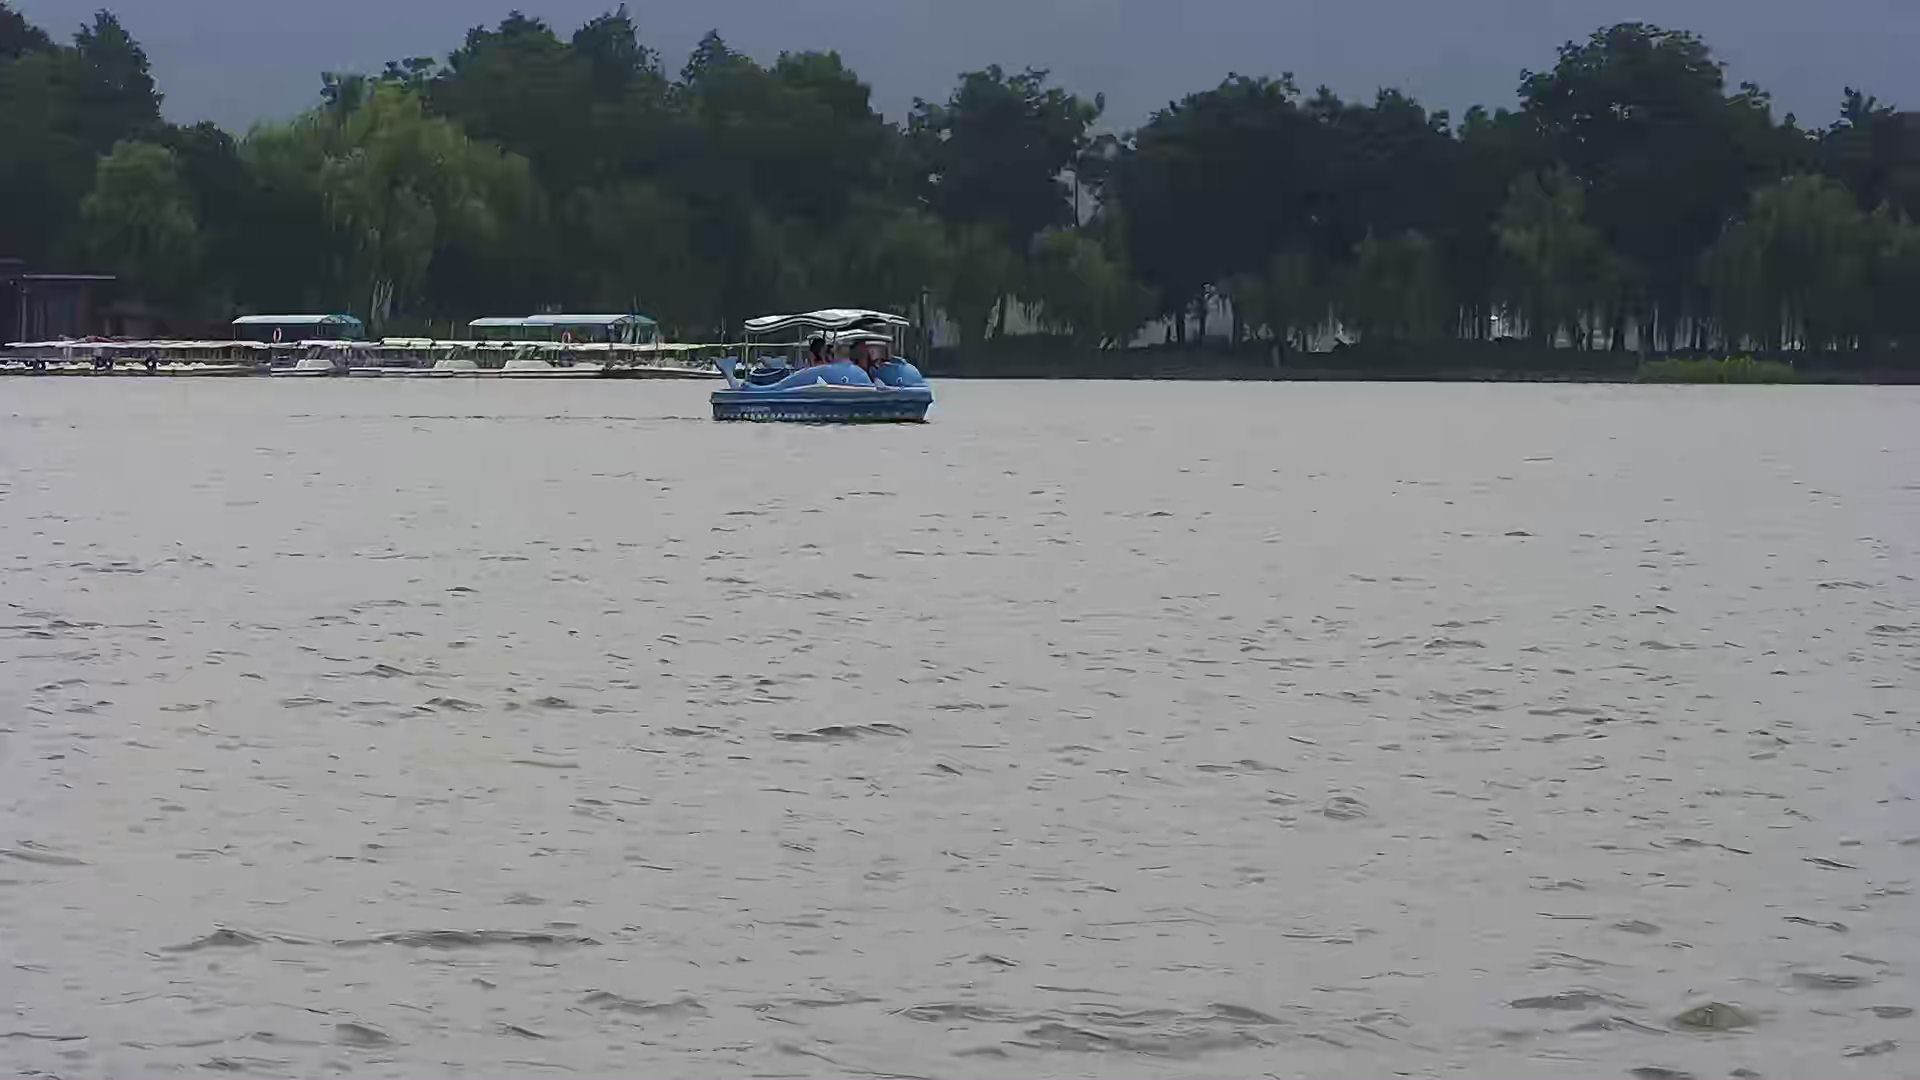boat: (704, 301, 944, 431)
